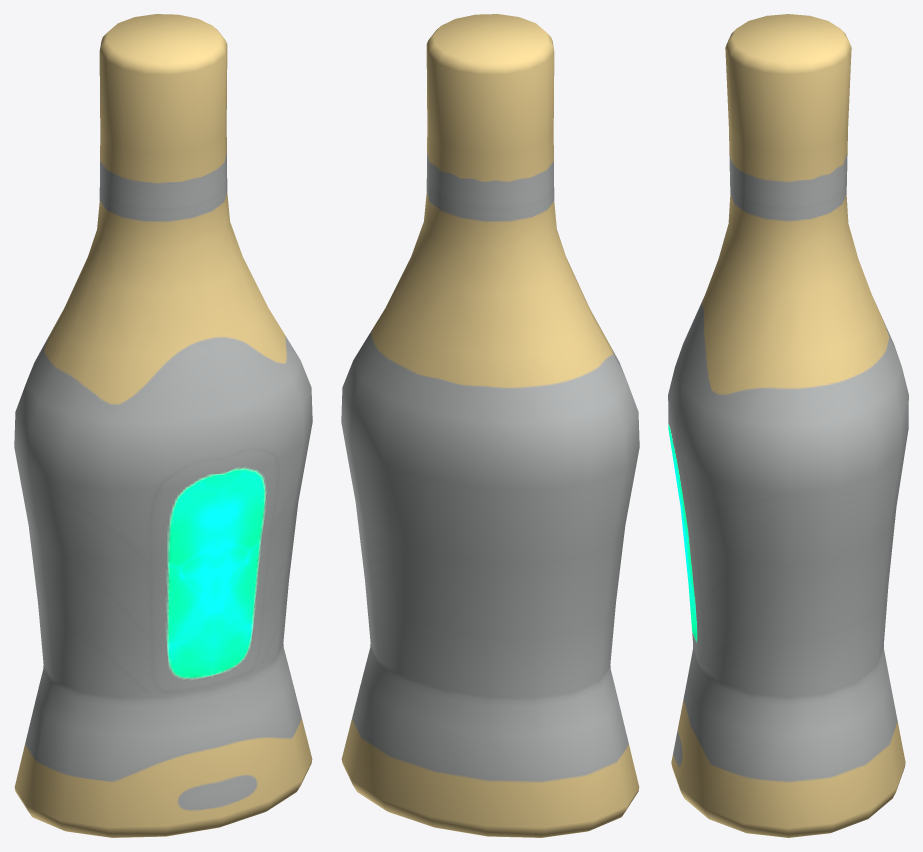
The model's file is BarBottle03_4.FBX.
3 renders of one model, left to right at view 1: azimuth 30°, elevation 25°; view 2: azimuth 150°, elevation 25°; view 3: azimuth 270°, elevation 25°, orthographic.
Parts seen in each view (by area): view 1: BarBottle03_4; view 2: BarBottle03_4; view 3: BarBottle03_4.
Boxes of the visible parts, box(x1,y1,x2,y2) form: BarBottle03_4: box(14, 14, 312, 837); BarBottle03_4: box(341, 14, 639, 837); BarBottle03_4: box(668, 14, 908, 837).
Size of what is drawn, in the model's own units: 0.1171 by 0.3073 by 0.0908.
